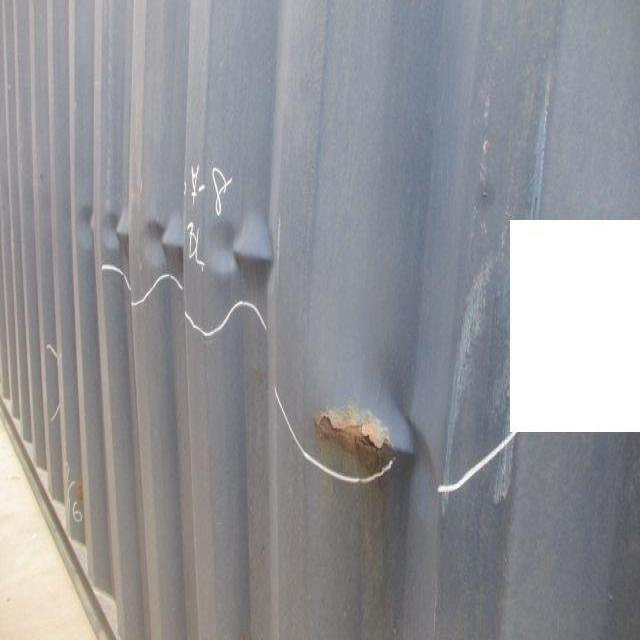dent: (265, 356, 457, 525), (69, 182, 322, 309)
